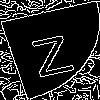Z: (25, 25, 76, 78)
